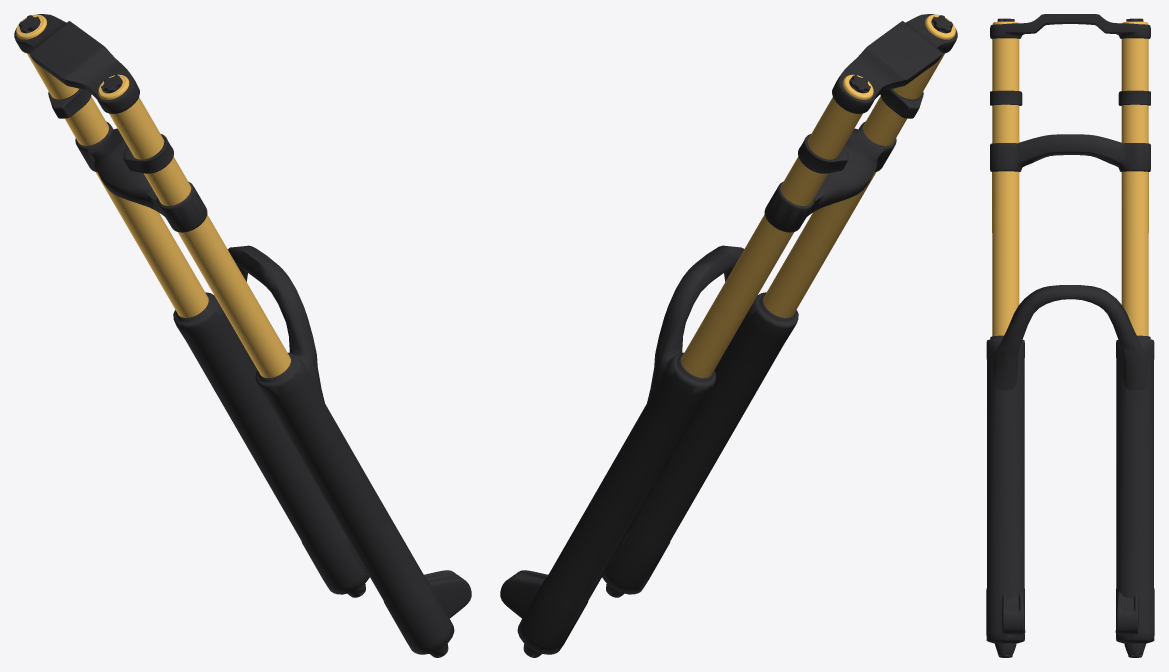
The model's file is fuzz_fork.glb.
3 renders of one model, left to right at view 1: azimuth 30°, elevation 25°; view 2: azimuth 150°, elevation 25°; view 3: azimuth 270°, elevation 25°, orthographic. The views are drawn at different scales.
Visible parts, largest first — view 1: fork; view 2: fork; view 3: fork.
Boxes of the visible parts, x1,y1,x2,y2 form: fork: [14, 14, 471, 657]; fork: [500, 14, 957, 657]; fork: [986, 14, 1154, 657].
Bounding box in the file's own units: 0.4352 × 0.7248 × 0.2102.
